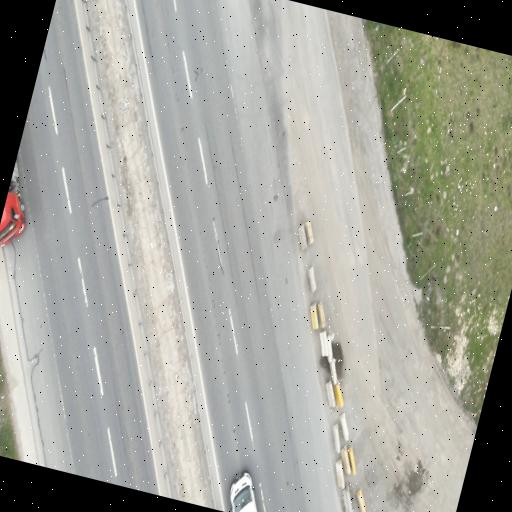car: (230, 472, 256, 511)
truck: (0, 161, 25, 246)
